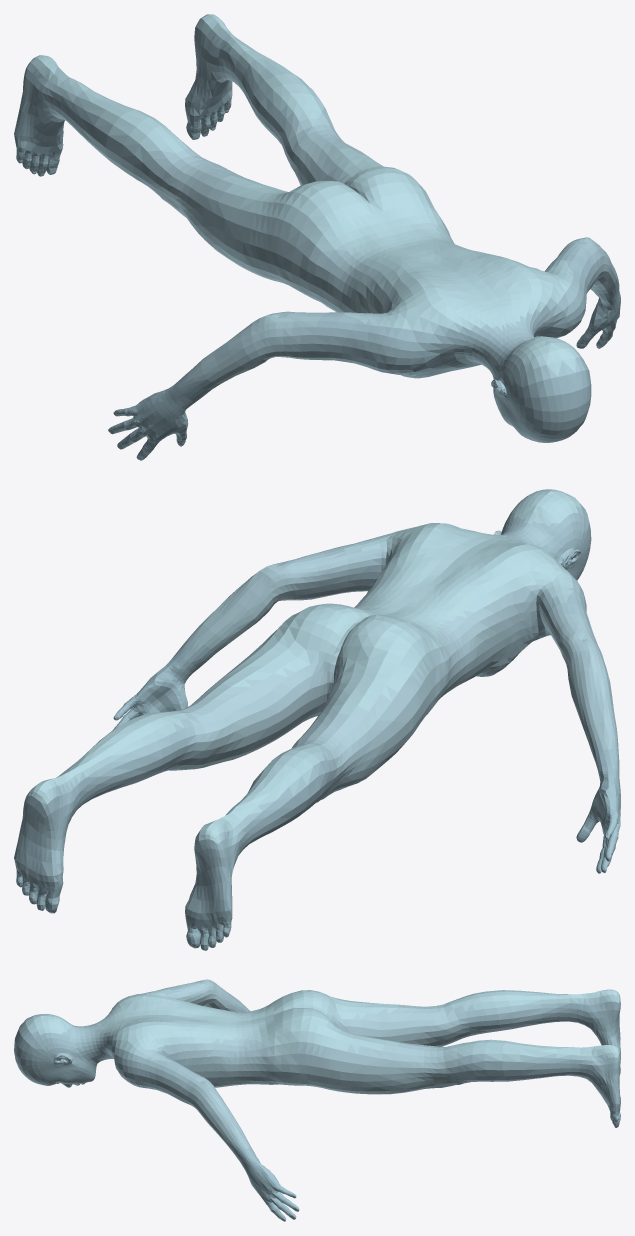
The model's file is anny_astronaut_segmented.glb.
The picture shows the model from 3 angles, top to bottom: view 1: azimuth 30°, elevation 25°; view 2: azimuth 150°, elevation 25°; view 3: azimuth 270°, elevation 25°; orthographic projection. The views are drawn at different scales.
Parts seen in each view (by area): view 1: head, torso, right_arm, left_arm, right_leg, left_leg; view 2: head, torso, left_arm, right_arm, right_leg, left_leg; view 3: torso, head, left_arm, right_arm, right_leg.
Part boxes in pixels (x1,y1,x2,y2): head: [26, 14, 581, 376]; torso: [149, 112, 617, 384]; right_arm: [300, 254, 595, 442]; left_arm: [14, 27, 328, 195]; right_leg: [108, 278, 620, 460]; left_leg: [16, 98, 231, 176]; head: [26, 489, 581, 842]; torso: [175, 551, 617, 800]; left_arm: [14, 719, 333, 923]; right_arm: [319, 503, 591, 665]; right_leg: [112, 638, 620, 873]; left_leg: [16, 870, 231, 950]; torso: [173, 979, 461, 1150]; head: [20, 989, 620, 1061]; left_arm: [452, 997, 620, 1112]; right_arm: [14, 986, 183, 1099]; right_leg: [35, 1008, 299, 1221].
Bounding box in the file's own units: 1.04 × 0.4248 × 1.63.
